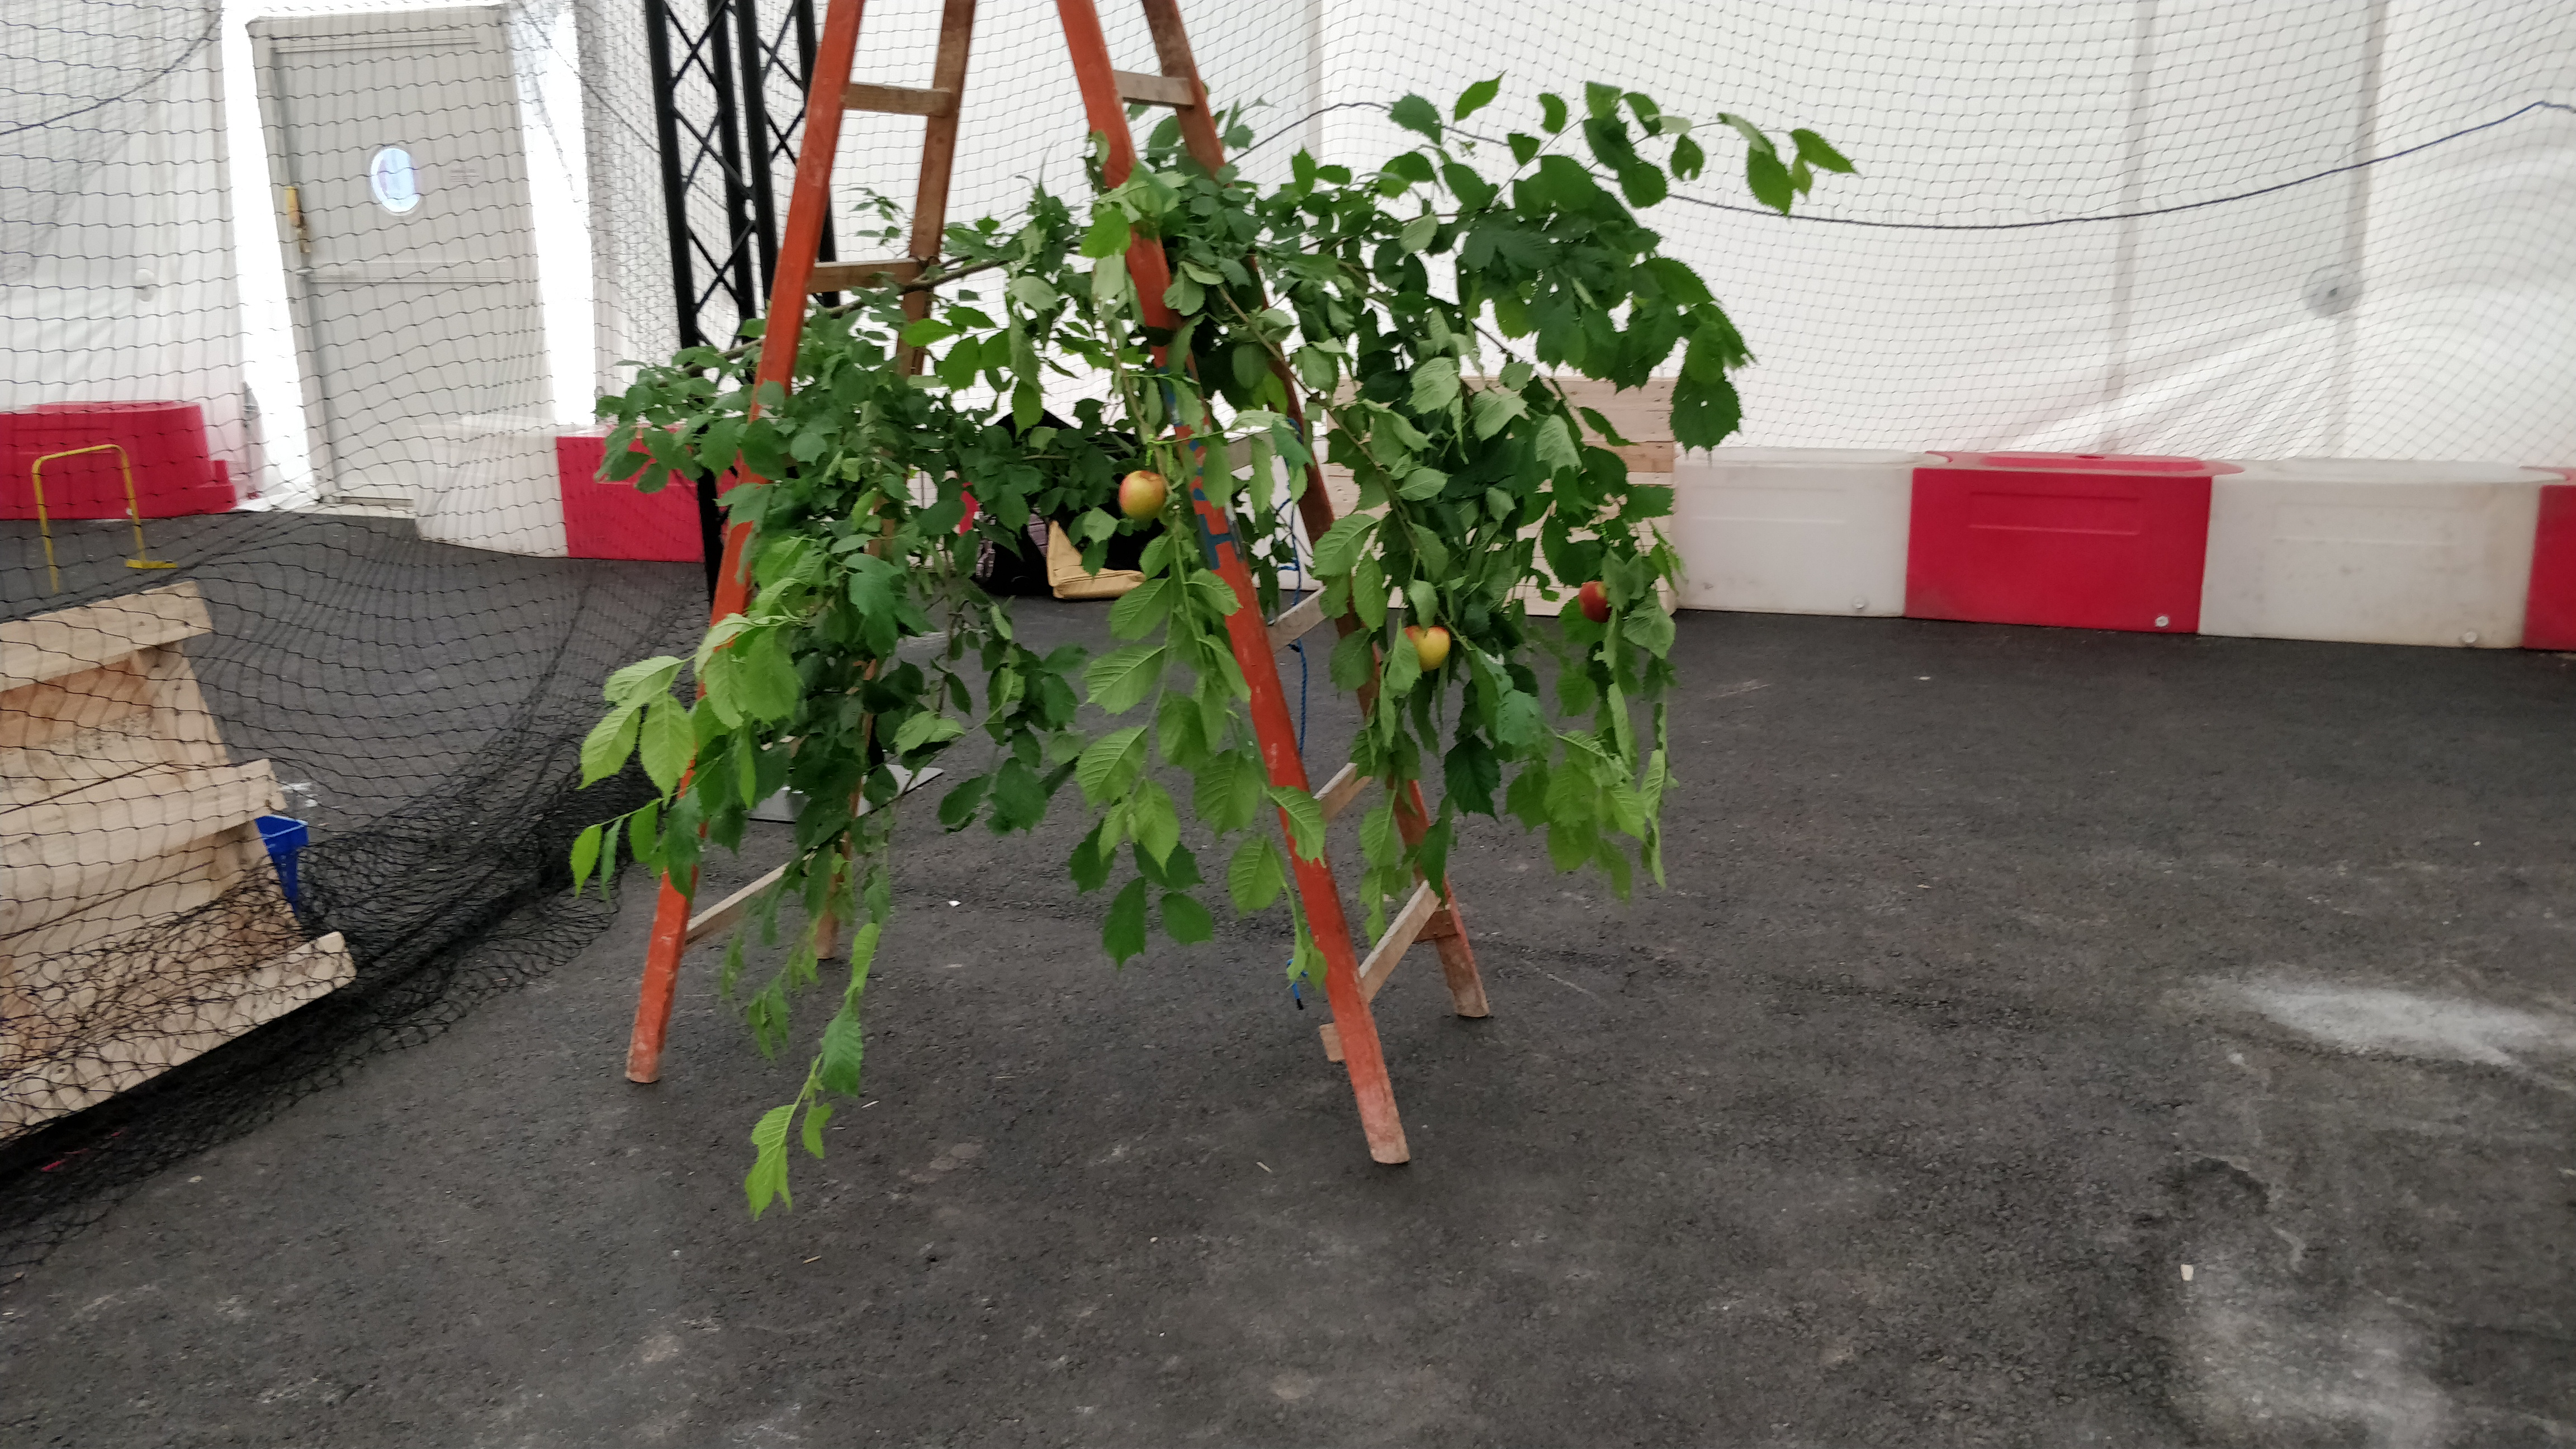apple: (1118, 471, 1168, 520), (1403, 626, 1451, 672), (1578, 580, 1617, 623)
